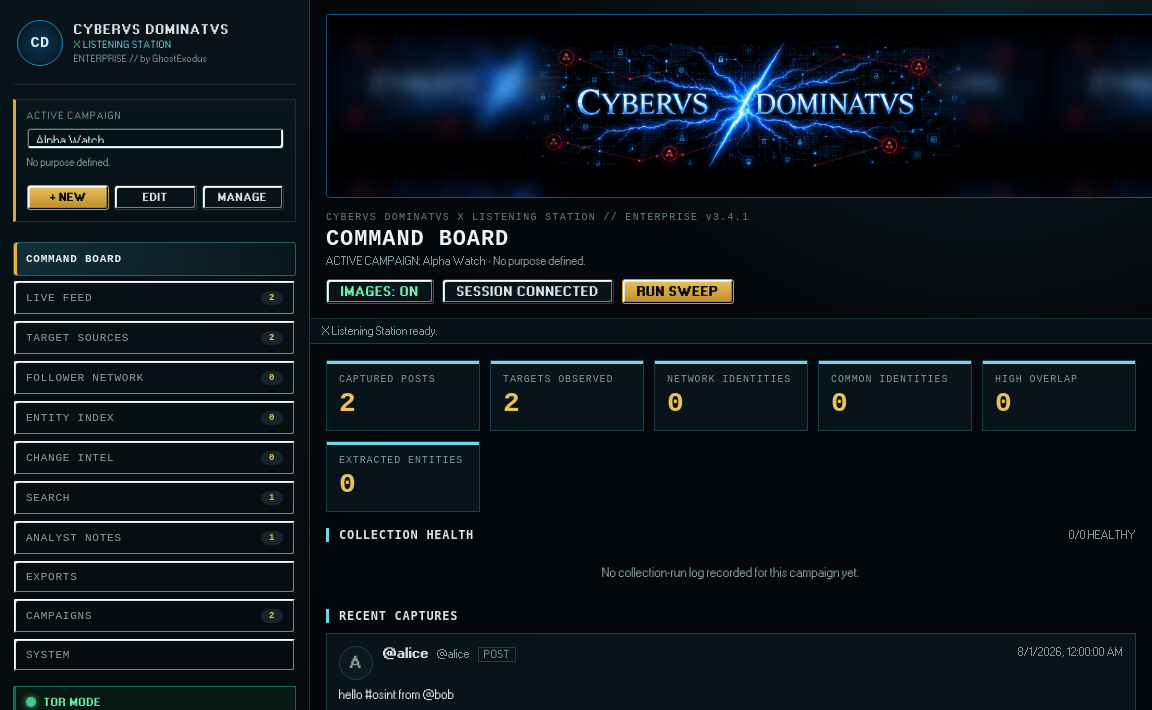
Test case: X Listening Station tabs (Task 15) › changes tab lists real flattened network accounts from networksList and marks a first-scan account NEW
Click the button with class "xls-tab" showing "CHANGE INTEL 0" at {"x": 70, "y": 458}, box [13,440,296,476]
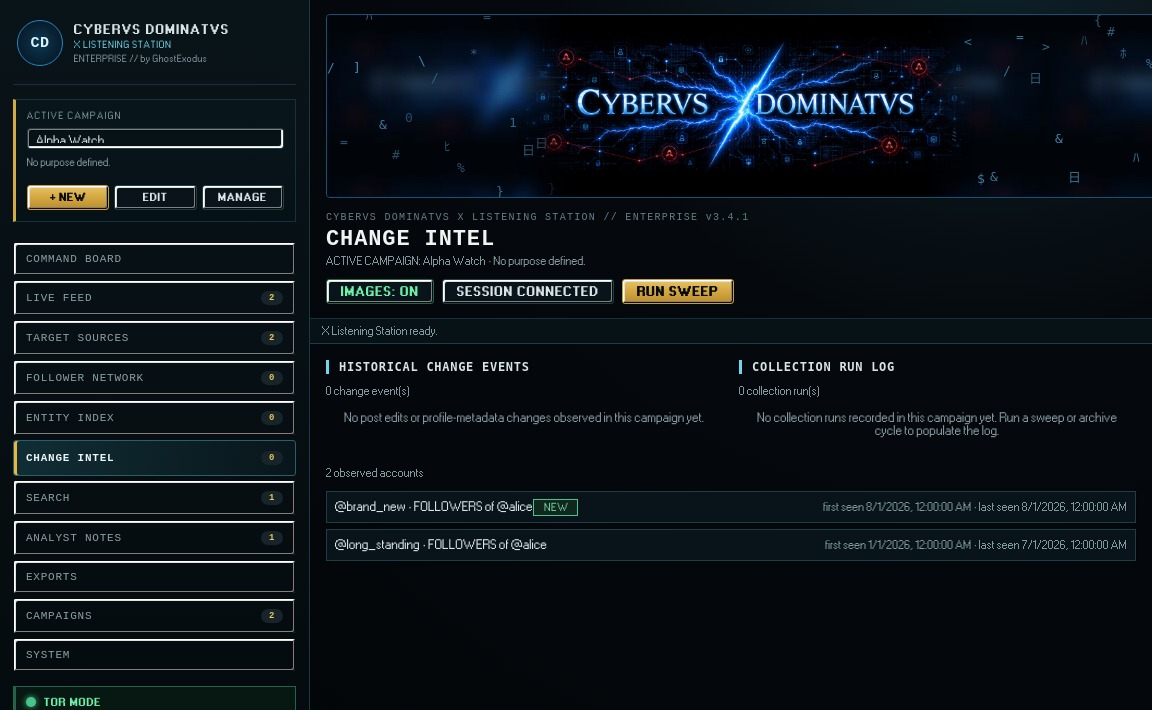
Result: the text "@brand_new" is shown at [335,500,406,513]
Result: the text "@long_standing" is shown at [335,538,420,551]
Result: the list item with class "xls-marker-new" shows "@brand_new" at [335,500,406,513]
